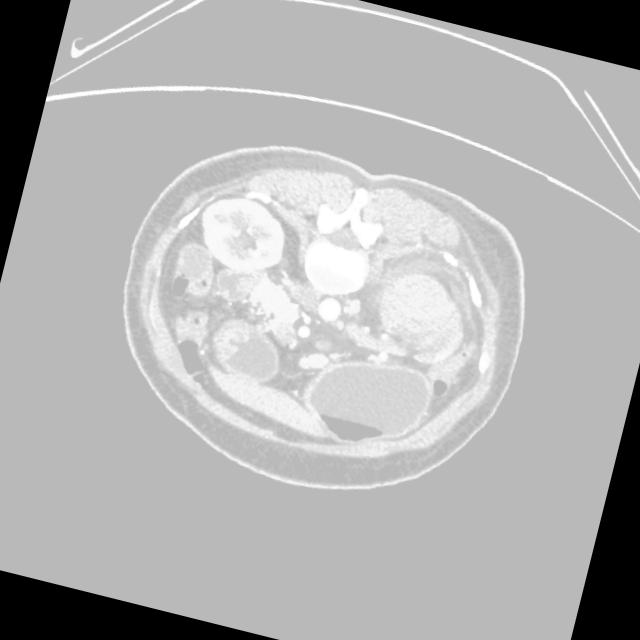TUMOR: (96, 240, 431, 466)
